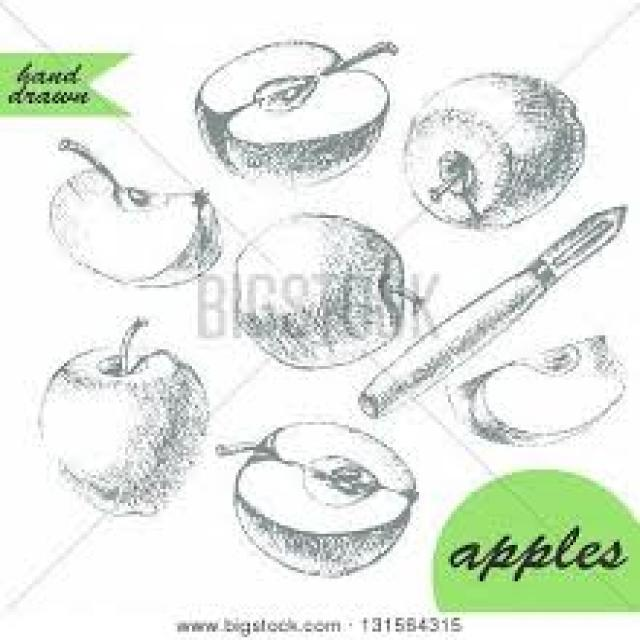Apple: (398, 69, 589, 229), (220, 425, 418, 579), (41, 342, 210, 518), (196, 40, 388, 182), (232, 213, 396, 369), (48, 168, 221, 288), (454, 338, 629, 445)
